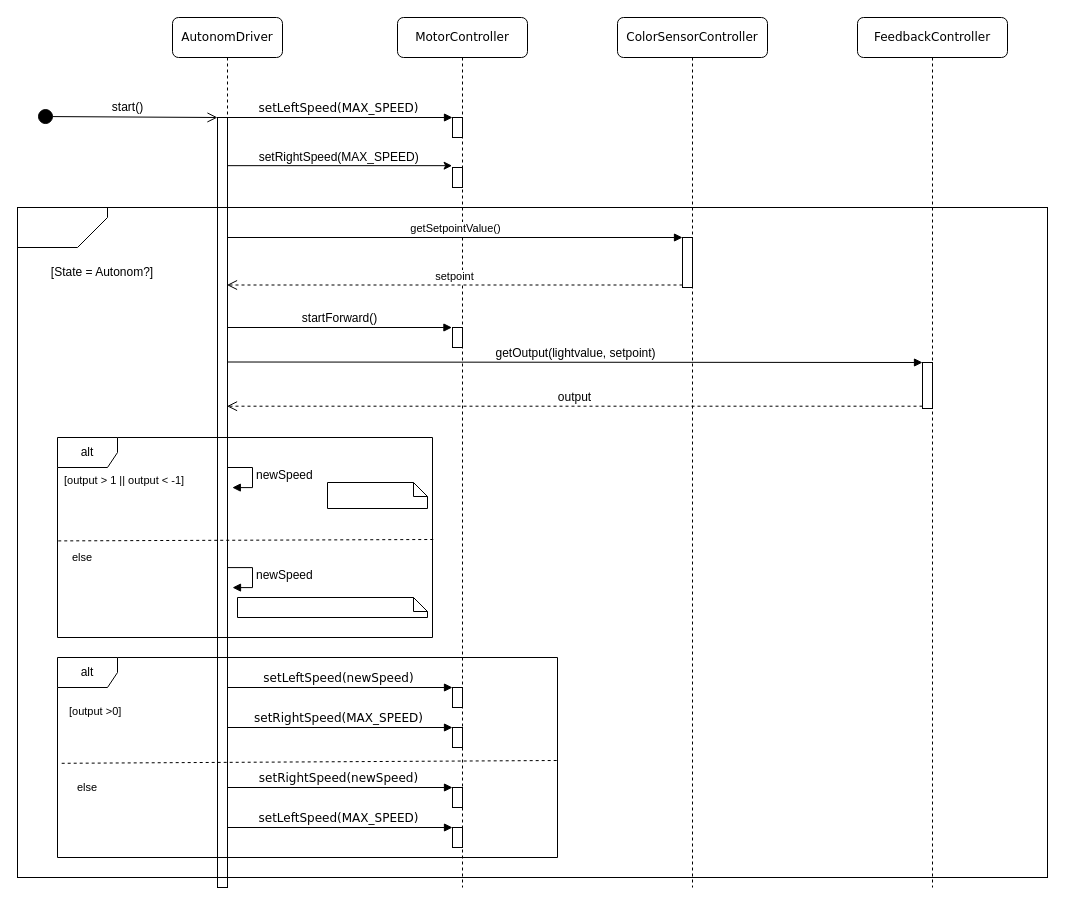
Some shapes in this 1065 by 905 pixel diagram are drawn without their labels. The shapes that lost their labels are listed below. From the top down, each one's centre as x and y in pixels, then its label:
At [62,227]: "Loop".
At [377,495]: "newSpeed=0".
At [332,607]: "1 - Math . abs(output)) * motor . MAX_SPEED".
